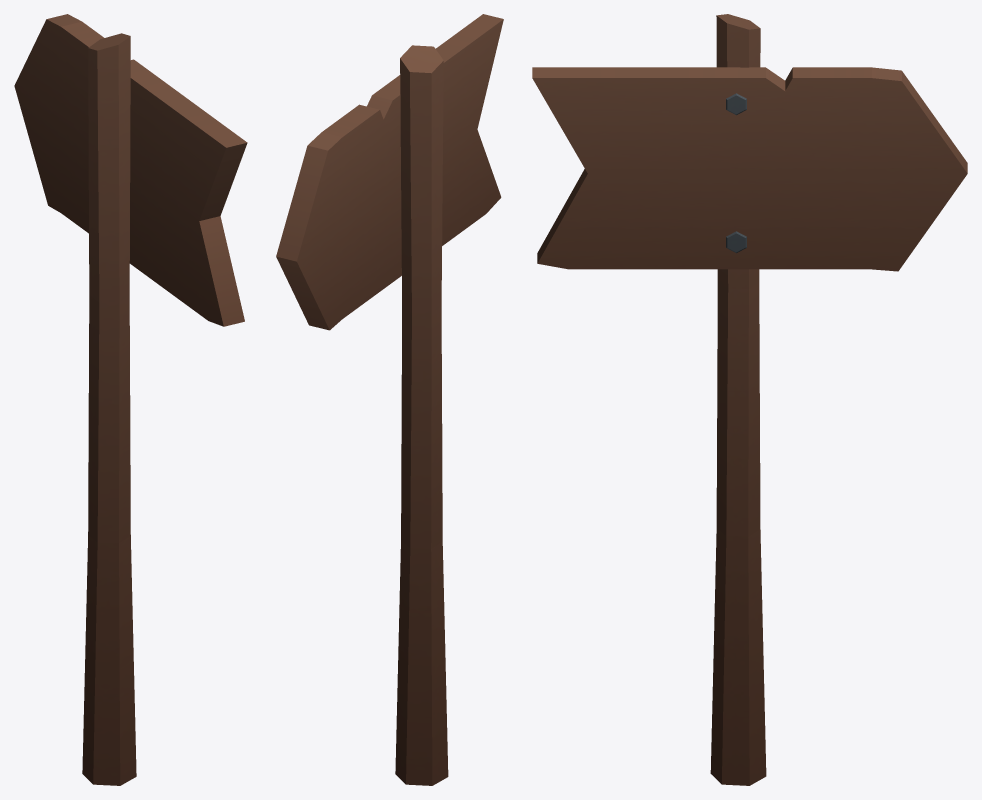
Rendered from znak2.fbx.
3 views of the same model, side by side, from view 1: azimuth 30°, elevation 25°; view 2: azimuth 150°, elevation 25°; view 3: azimuth 270°, elevation 25° (orthographic). The views are drawn at different scales.
Visible parts, largest first — view 1: slup2, znak2; view 2: slup2, znak2; view 3: znak2, slup2.
Boxes of the visible parts, x1=… form: slup2: x1=82, y1=33, x2=136, y2=785; znak2: x1=14, y1=14, x2=247, y2=326; slup2: x1=395, y1=45, x2=448, y2=785; znak2: x1=276, y1=14, x2=503, y2=330; znak2: x1=532, y1=67, x2=967, y2=271; slup2: x1=710, y1=14, x2=766, y2=785.
Size of the model in its own units: 17.3 by 202 by 105.
